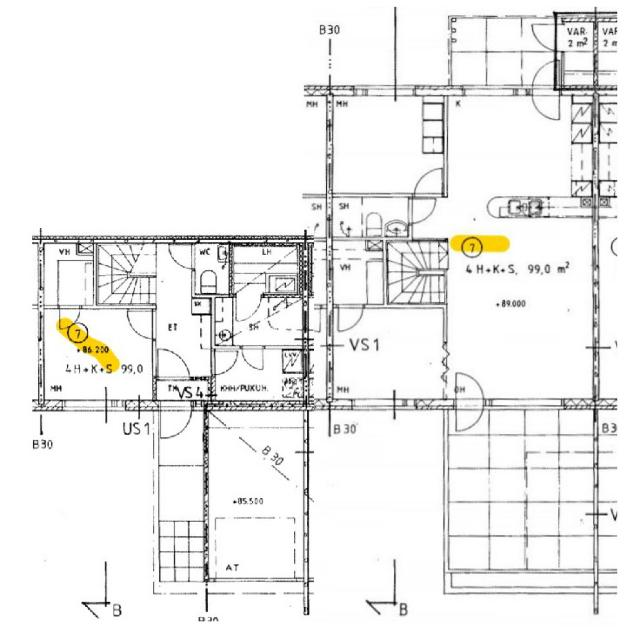door: (160, 399, 192, 440), (532, 59, 560, 96), (532, 86, 560, 122), (456, 372, 483, 409), (158, 347, 188, 380), (456, 399, 483, 435), (533, 24, 565, 52), (414, 166, 442, 197), (124, 311, 156, 338), (408, 198, 437, 222), (167, 244, 195, 268), (248, 294, 272, 322), (338, 304, 362, 332), (188, 352, 215, 374), (59, 304, 80, 328)
